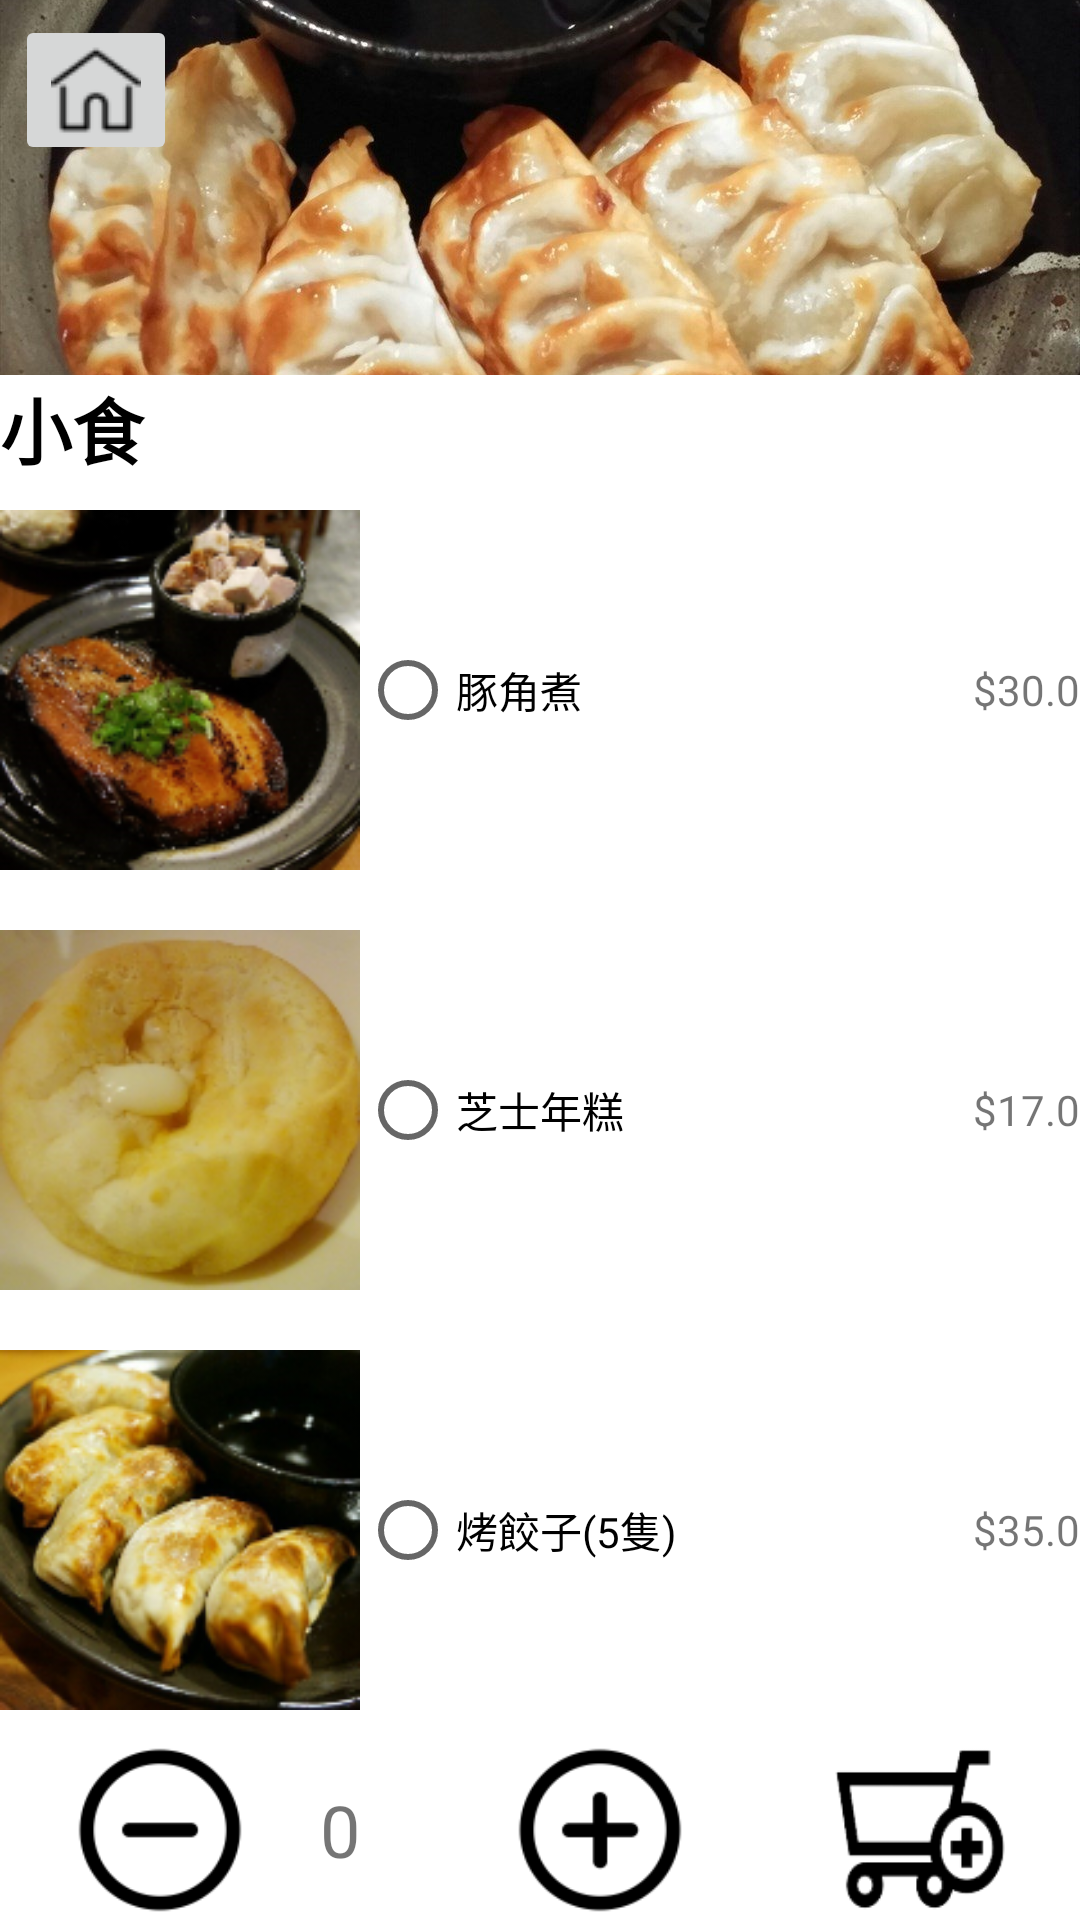

Named icons in this screenshot (1080w x 1920h) and their bounding boxes, bbox(x1, y1, x2, y2):
dumpling: bbox(0, 1350, 360, 1710)
minus: bbox(78, 1748, 242, 1912)
plus: bbox(518, 1748, 682, 1912)
shoppingcart: bbox(836, 1750, 1005, 1908)
